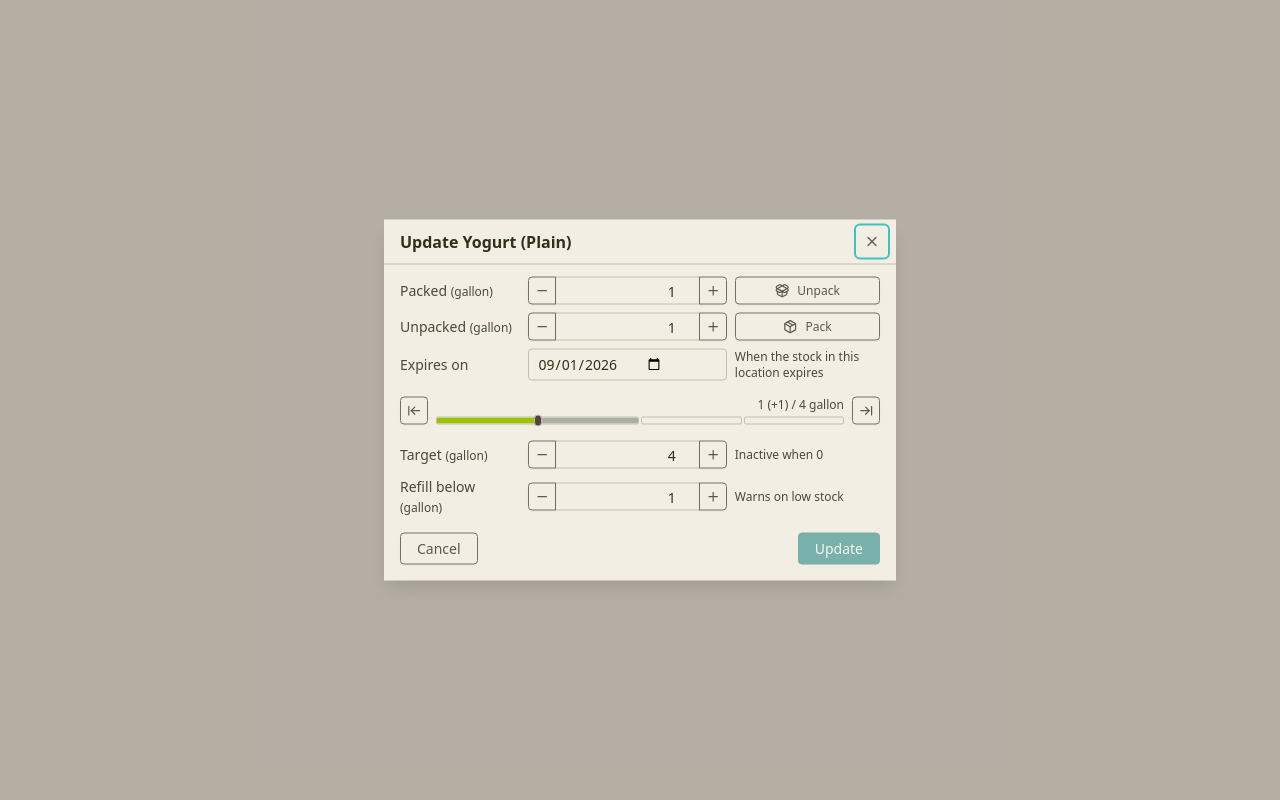
it: QuickUpdateDialog — Expires on field › user sees Update stay disabled until the due date actually changes
This screenshot has width=1280, height=800.
Check: the button "Update" is disabled, box [798,532,880,564]
# When the user edits the date
Type "2026-10-15" into the date field labelled "Expires on" at (628, 364), box [528,348,727,380]
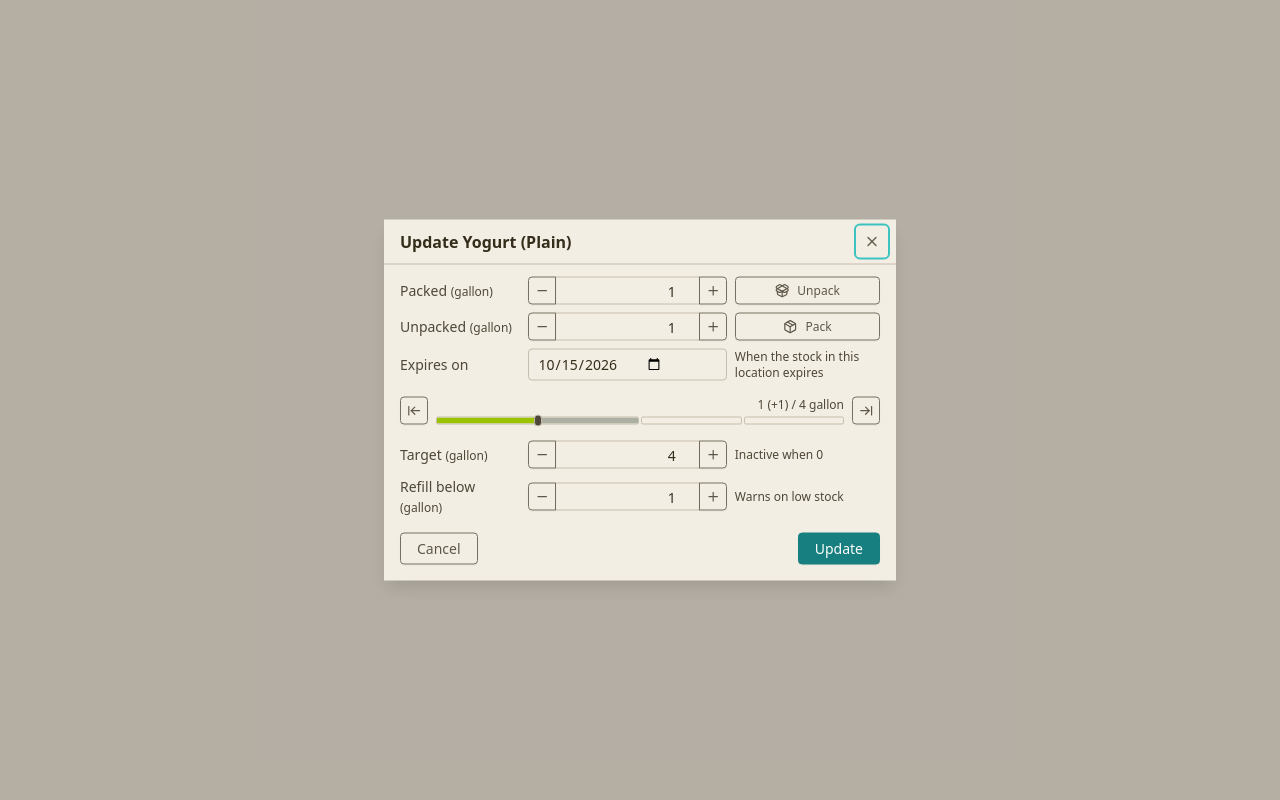
Check: the button "Update" is enabled, box [798,532,880,564]
# And reverting to the stored value disables it again
Type "2026-09-01" into the date field labelled "Expires on" at (628, 364), box [528,348,727,380]
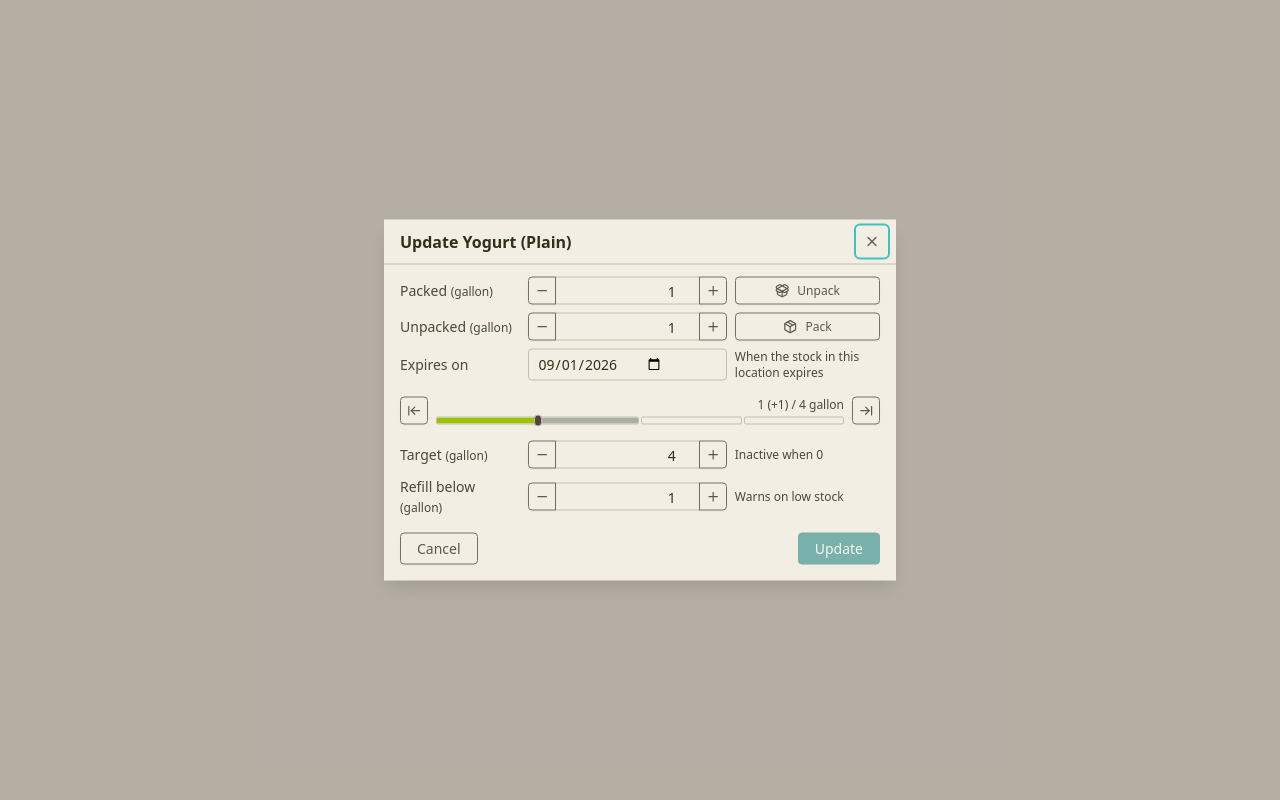
Check: the button "Update" is disabled, box [798,532,880,564]
